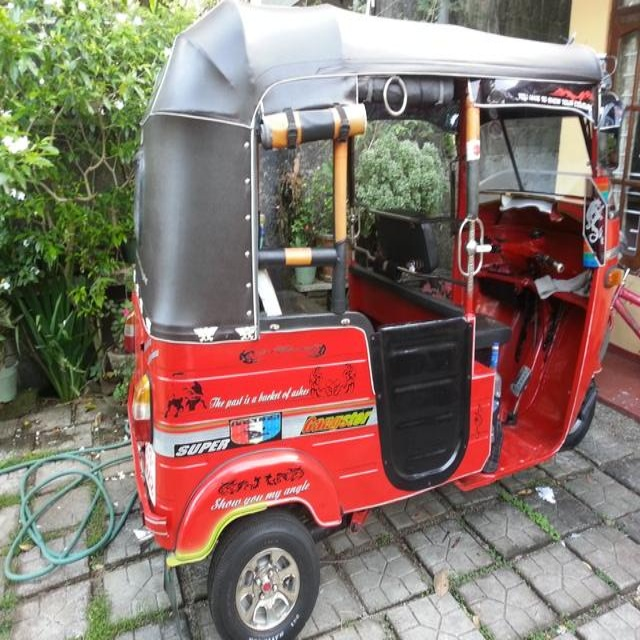Motorcycle: (127, 1, 620, 640)
